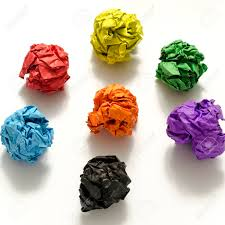crumpled paper: (79, 153, 135, 214), (167, 102, 225, 157), (1, 106, 53, 163), (90, 9, 141, 67), (88, 85, 142, 139), (19, 44, 73, 91), (158, 40, 205, 89)
